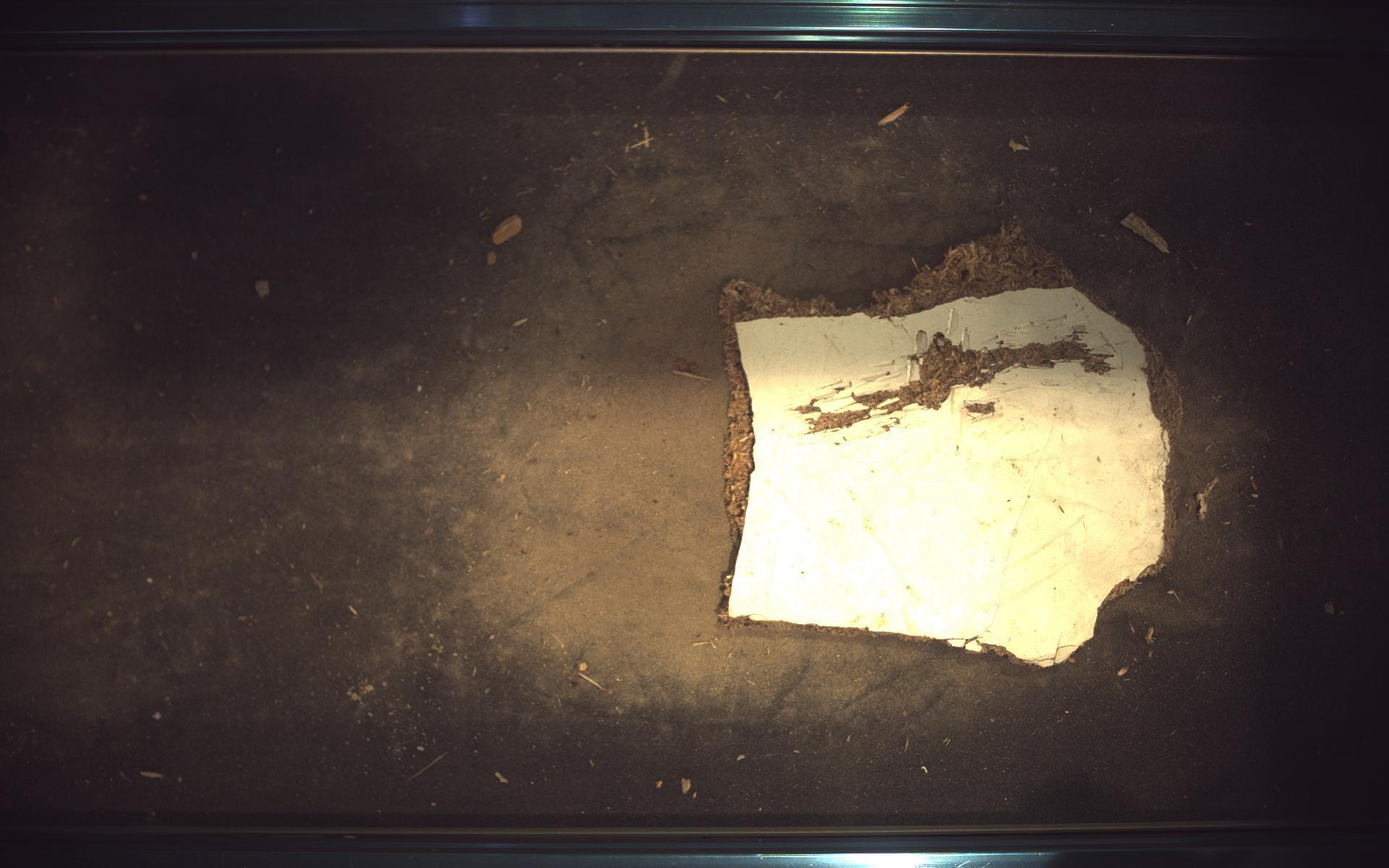wood: (722, 226, 1181, 667)
